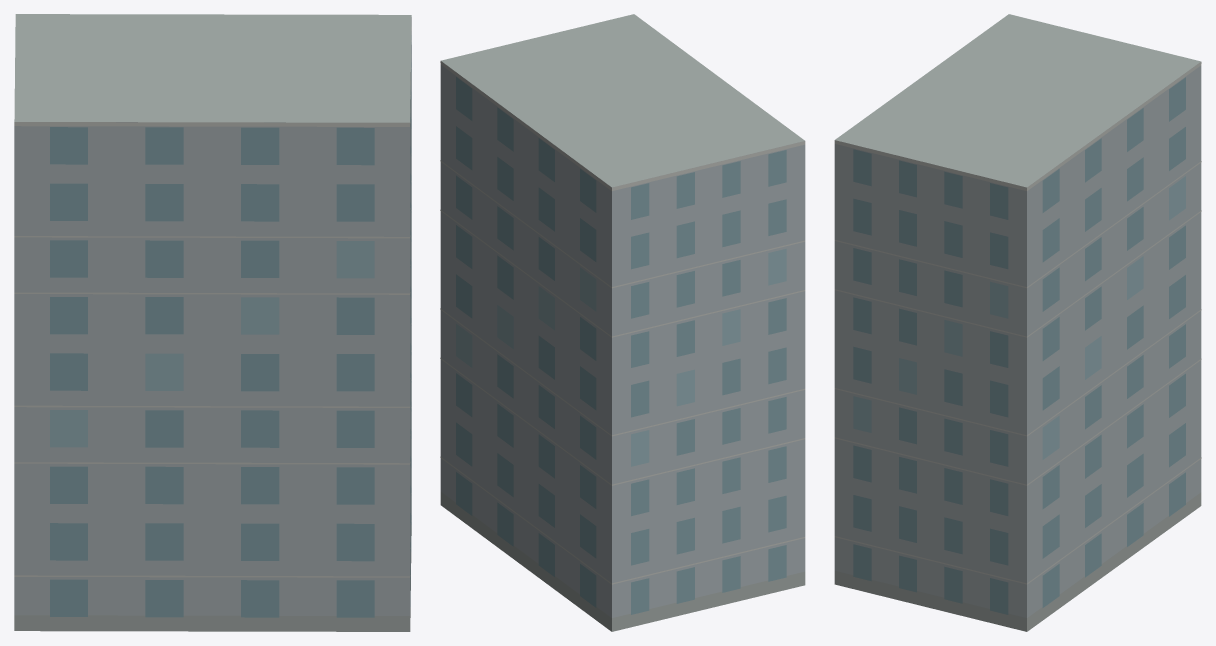
The model's file is residential-6990ea2c-80af-48c4-b568-f55839fbec8b.glb.
The picture shows the model from 3 angles, left to right: view 1: azimuth 30°, elevation 25°; view 2: azimuth 150°, elevation 25°; view 3: azimuth 270°, elevation 25°; orthographic projection. The views are drawn at different scales.
Parts seen in each view (by area): view 1: residential-6990ea2c-80af-48c4-b568-f55839fbec8b.tmp; view 2: residential-6990ea2c-80af-48c4-b568-f55839fbec8b.tmp; view 3: residential-6990ea2c-80af-48c4-b568-f55839fbec8b.tmp.
Boxes of the visible parts, x1,y1,x2,y2 form: residential-6990ea2c-80af-48c4-b568-f55839fbec8b.tmp: (14,14,411,631); residential-6990ea2c-80af-48c4-b568-f55839fbec8b.tmp: (440,14,805,631); residential-6990ea2c-80af-48c4-b568-f55839fbec8b.tmp: (834,14,1201,631).
Size of the model in its own units: 24.31 by 29 by 21.71.
